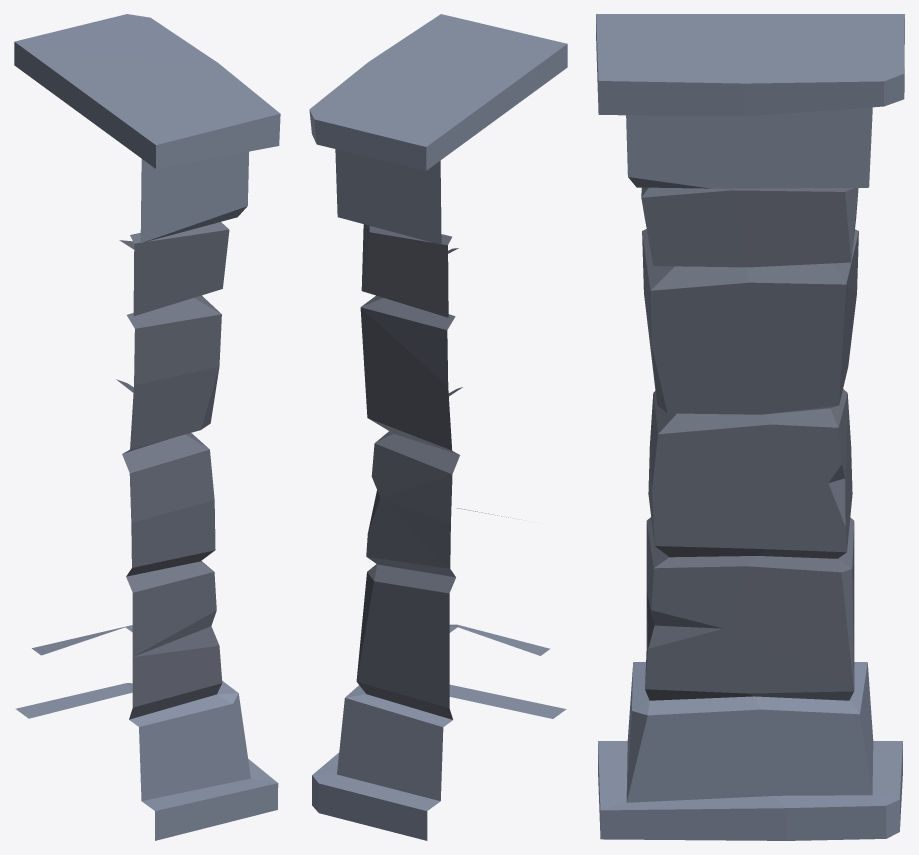
Rendered from Pillar.gltf.
3 renders of one model, left to right at view 1: azimuth 30°, elevation 25°; view 2: azimuth 150°, elevation 25°; view 3: azimuth 270°, elevation 25°, orthographic. The views are drawn at different scales.
Visible parts, largest first — view 1: Pillar2; view 2: Pillar2; view 3: Pillar2.
Boxes of the visible parts, x1=… form: Pillar2: x1=14, y1=14, x2=280, y2=840; Pillar2: x1=309, y1=14, x2=567, y2=840; Pillar2: x1=596, y1=14, x2=904, y2=840.
Bounding box in the file's own units: 0.1528 × 0.7769 × 0.2861.
1 material, 1 textured.
